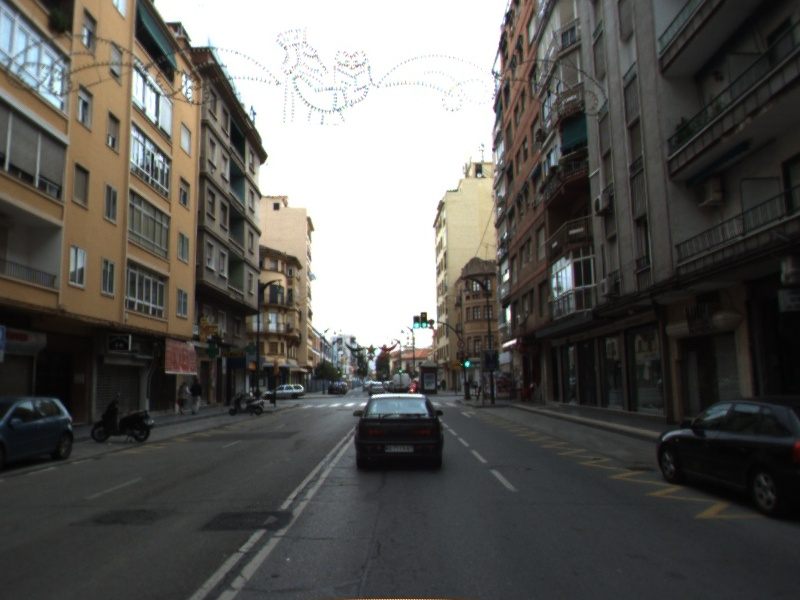RIGHT: (460, 409, 477, 419)
